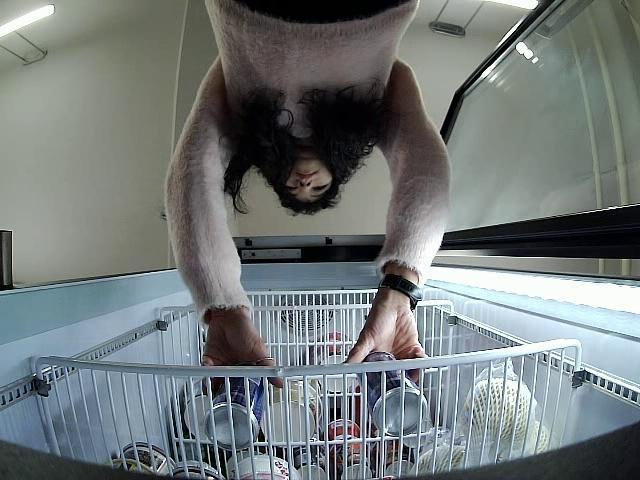16_hot6: (358, 350, 428, 436), (203, 376, 264, 451)
